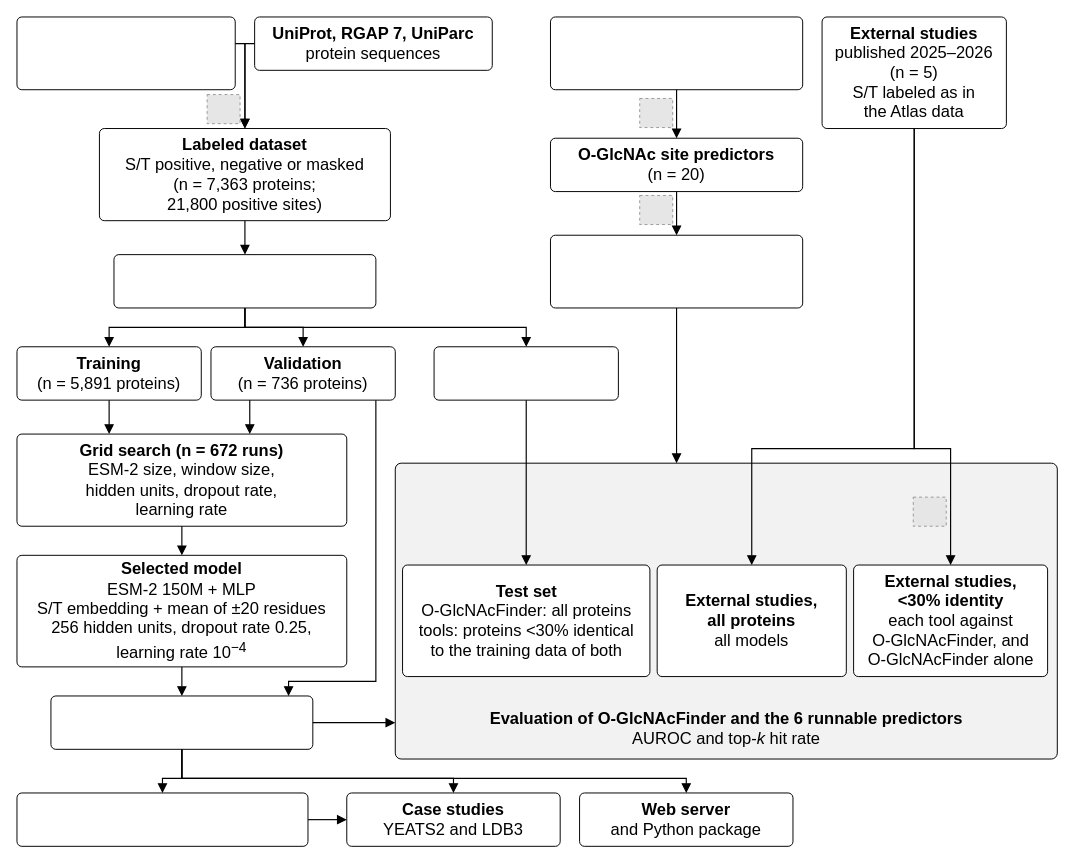
This 1075x863 diagram has some shape labels left out. Grey dashed boxes stand in for pictures. Here are the shapes that lost their labels. From the top down, the box of each, then its label:
(16, 16, 235, 90): O-GlcNAcAtlas 5.0 O-GlcNAcylated peptides and resolved sites
(550, 16, 803, 90): Google Scholar, Europe PMC tools found in the literature search (n = 46)
(113, 254, 376, 308): MMseqs2 + GraphPart <30% identity between sets
(550, 234, 803, 308): Runnable predictors web server or released model (n = 6)
(433, 346, 618, 400): Test (n = 736 proteins)
(50, 695, 313, 749): O-GlcNAcFinder Platt scaling, cut-off by MCC
(16, 792, 308, 846): Reference proteomes (n = 5 proteomes; 7,571,896 S/T)
